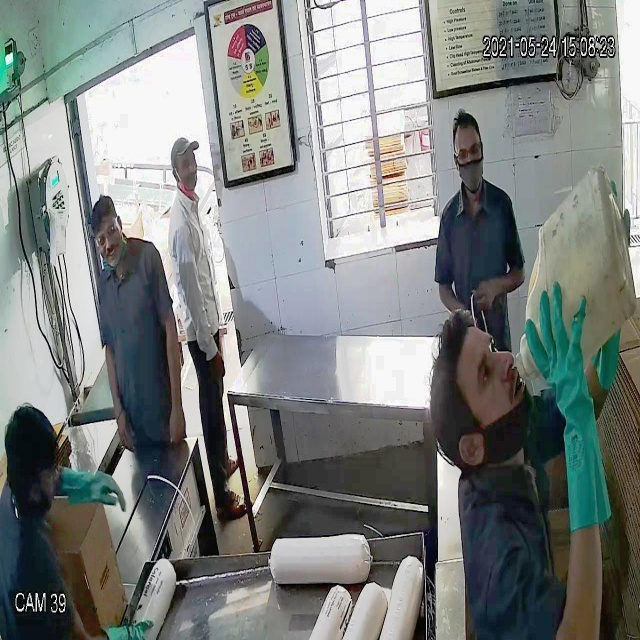Gafas: (450, 136, 487, 170), (89, 220, 125, 251)
Sin_gafas: (476, 312, 501, 443), (174, 149, 202, 172)
